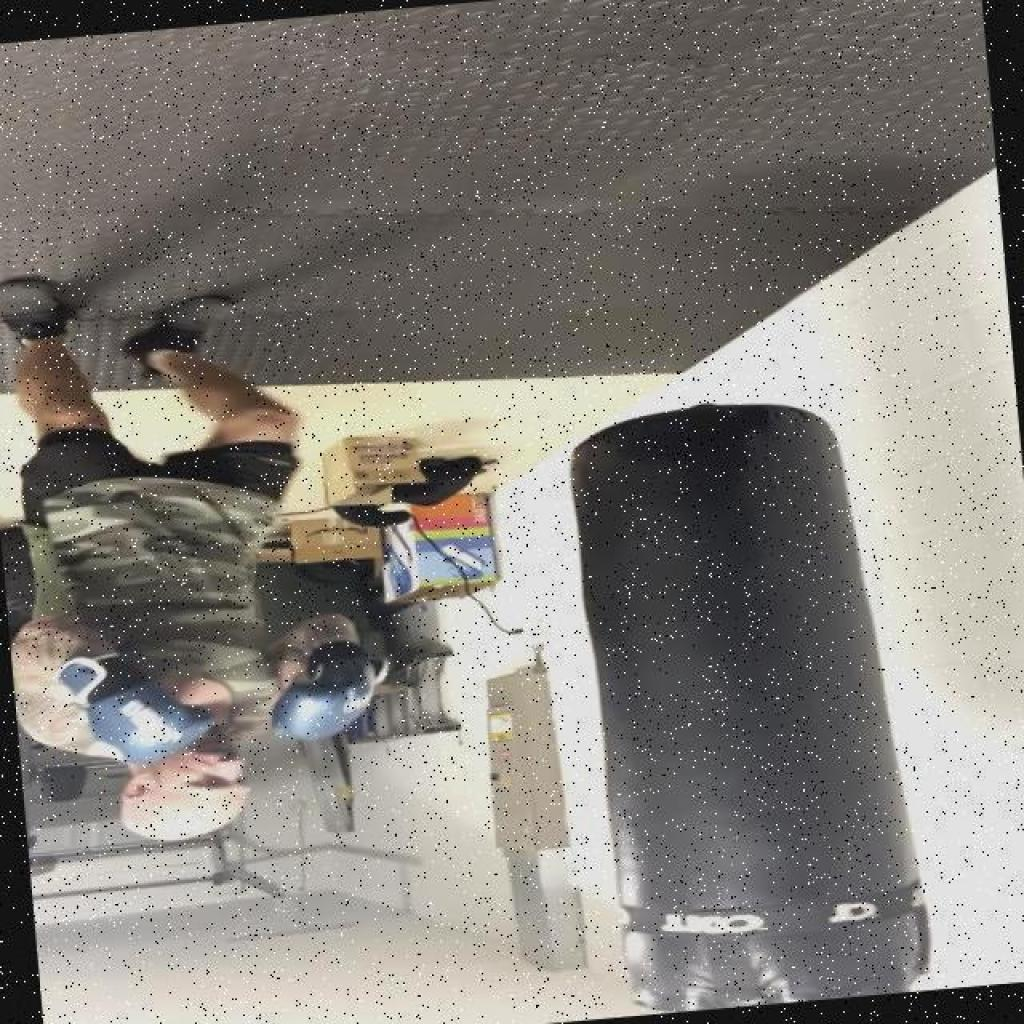bag: (563, 378, 917, 1019)
no punch: (13, 584, 390, 862)
